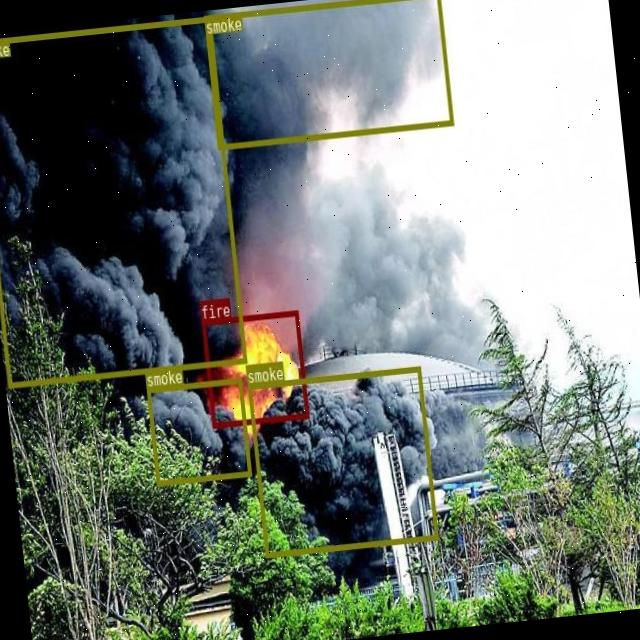fire: (200, 309, 308, 427)
smoke: (0, 15, 246, 386), (203, 0, 453, 149), (247, 365, 438, 556), (146, 377, 251, 485)
